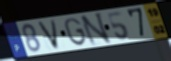5: (105, 10, 131, 42)
7: (126, 7, 147, 39)
8: (22, 23, 42, 54)
G: (63, 16, 88, 47)
N: (79, 11, 113, 48)
V: (35, 18, 61, 51)
